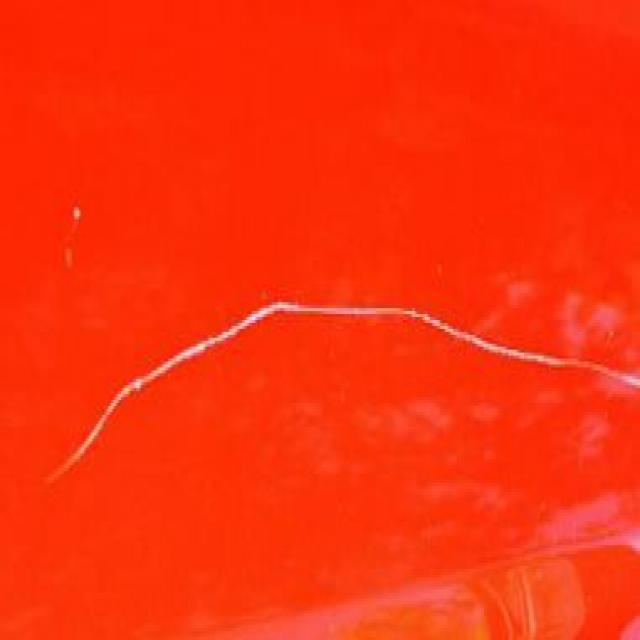scratch: (43, 269, 640, 494)
